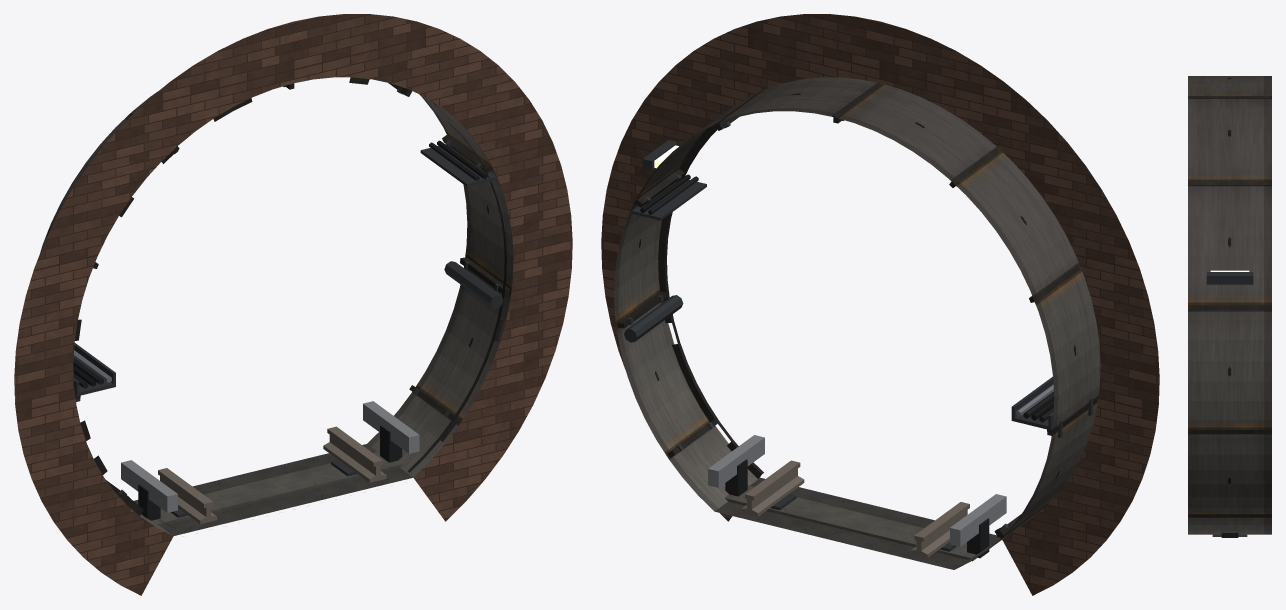
File: tunnel_segment.glb
3 views of the same model, side by side, from view 1: azimuth 30°, elevation 25°; view 2: azimuth 150°, elevation 25°; view 3: azimuth 270°, elevation 25° (orthographic). The views are drawn at different scales.
Visible parts, largest first — view 1: seg_mouth, seg_iron; view 2: seg_iron, seg_mouth; view 3: seg_iron, seg_iron_lamp.
Part boxes in pixels (x1,y1,x2,y2): seg_mouth: (14, 14, 572, 595); seg_iron: (40, 77, 513, 535); seg_iron: (614, 77, 1100, 569); seg_mouth: (601, 14, 1159, 595); seg_iron: (1188, 76, 1271, 537); seg_iron_lamp: (1206, 270, 1253, 284).
Bounding box in the file's own units: 4.25 × 3.91 × 0.6101.
Materials: 13 (6 with a texture image).
